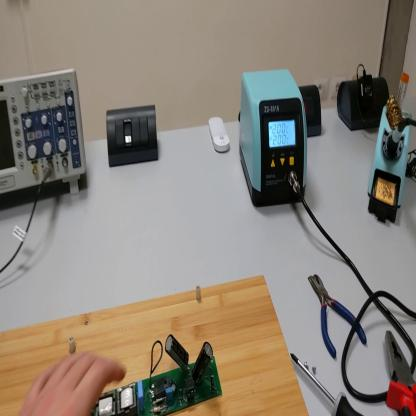hand: (18, 350, 125, 415)
high voltage board: (95, 332, 225, 415)
oscilloscope: (2, 67, 88, 212)
pliers: (307, 270, 369, 359), (386, 327, 416, 416)
screwdriver-: (290, 354, 364, 416)
socket: (334, 72, 393, 132), (299, 88, 324, 143)
welder probe tip: (368, 70, 413, 227), (389, 117, 413, 161)
welder station: (239, 72, 310, 211)
working area: (2, 273, 309, 416)
